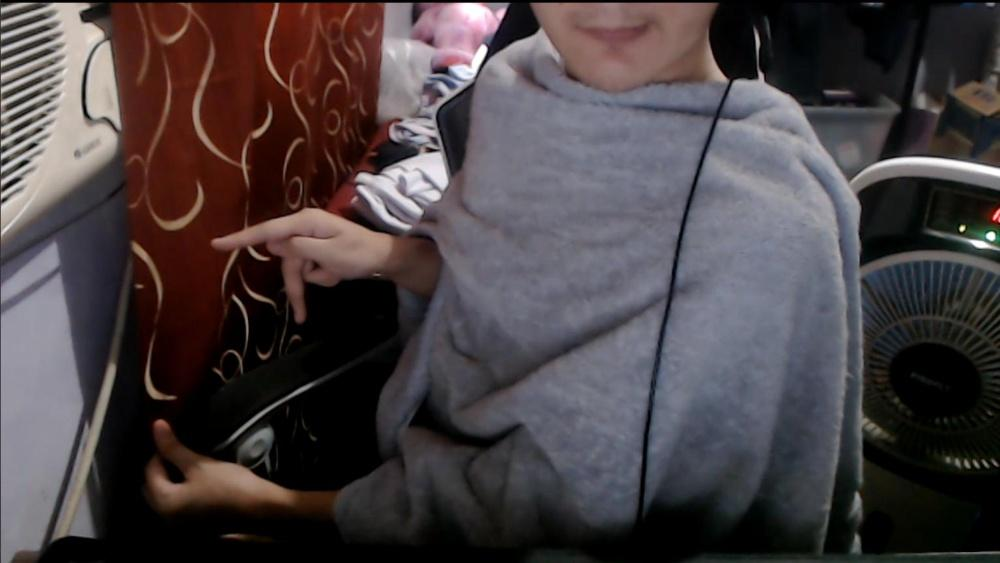p: (210, 207, 366, 323)
